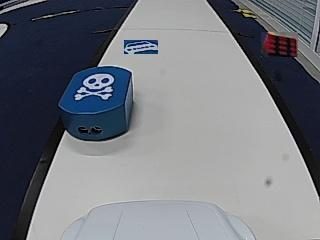danger: (75, 73, 111, 101)
